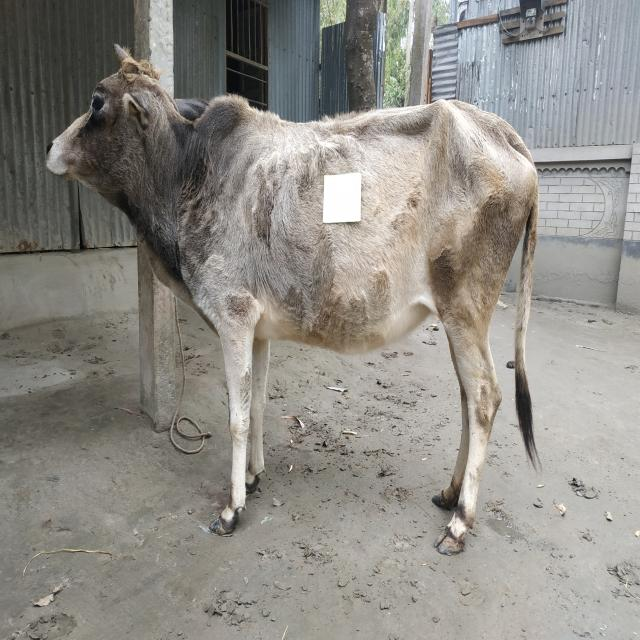badan_sapi: (221, 120, 508, 347)
sapi: (42, 37, 548, 563)
